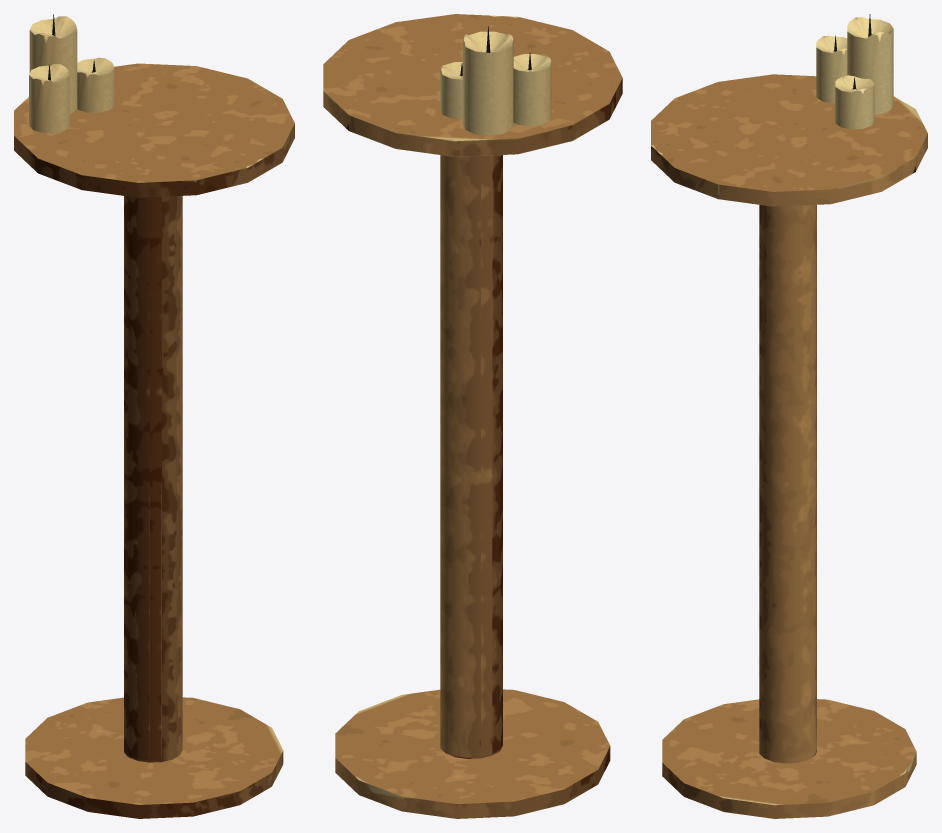
The model's file is tunek.fbx.
The picture shows the model from 3 angles, left to right: view 1: azimuth 30°, elevation 25°; view 2: azimuth 150°, elevation 25°; view 3: azimuth 270°, elevation 25°; orthographic projection. The views are drawn at different scales.
Visible parts, largest first — view 1: Circle; view 2: Circle; view 3: Circle.
Boxes of the visible parts, left/top/right/bottom form: Circle: left=14, top=14, right=294, bottom=818; Circle: left=323, top=14, right=622, bottom=818; Circle: left=651, top=14, right=927, bottom=818.
Size of the model in its own units: 1.11 by 3.17 by 1.1.
1 material, 1 textured.
